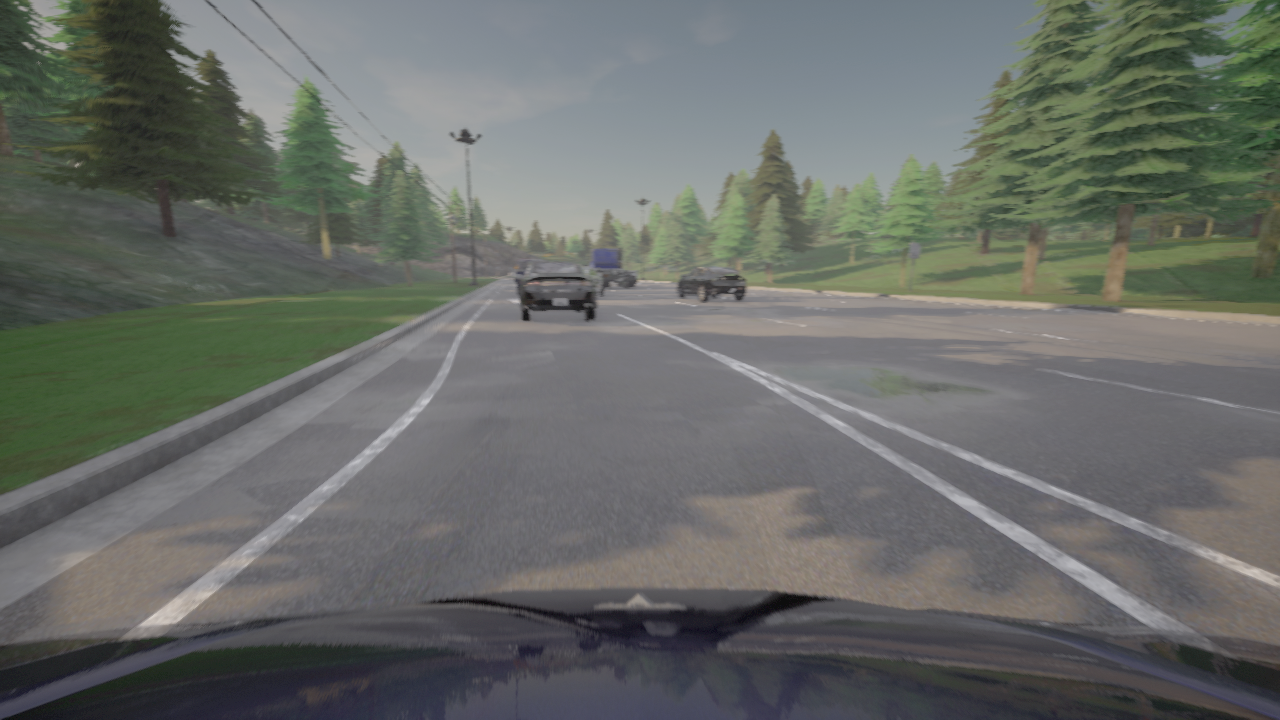cyclist: (0, 588, 1279, 719), (515, 261, 596, 321), (677, 266, 747, 301), (587, 247, 637, 287), (515, 259, 543, 294), (580, 264, 603, 295)
